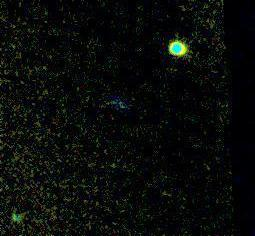star: (0, 172, 22, 202)
